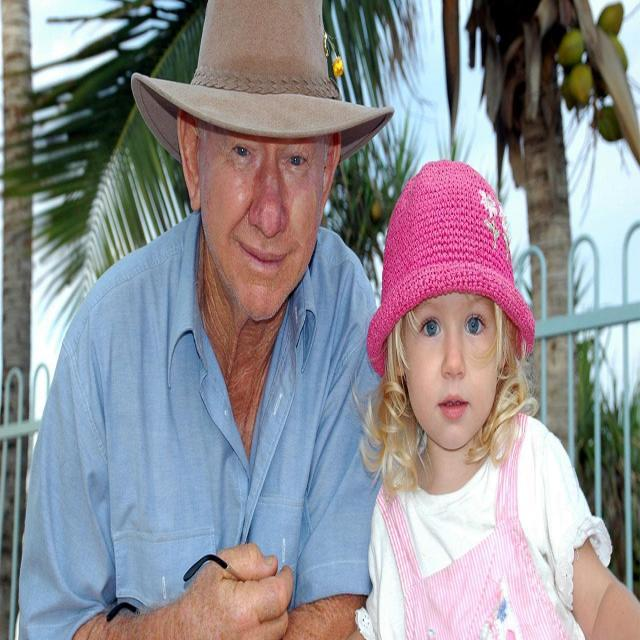child: (362, 142, 638, 638)
